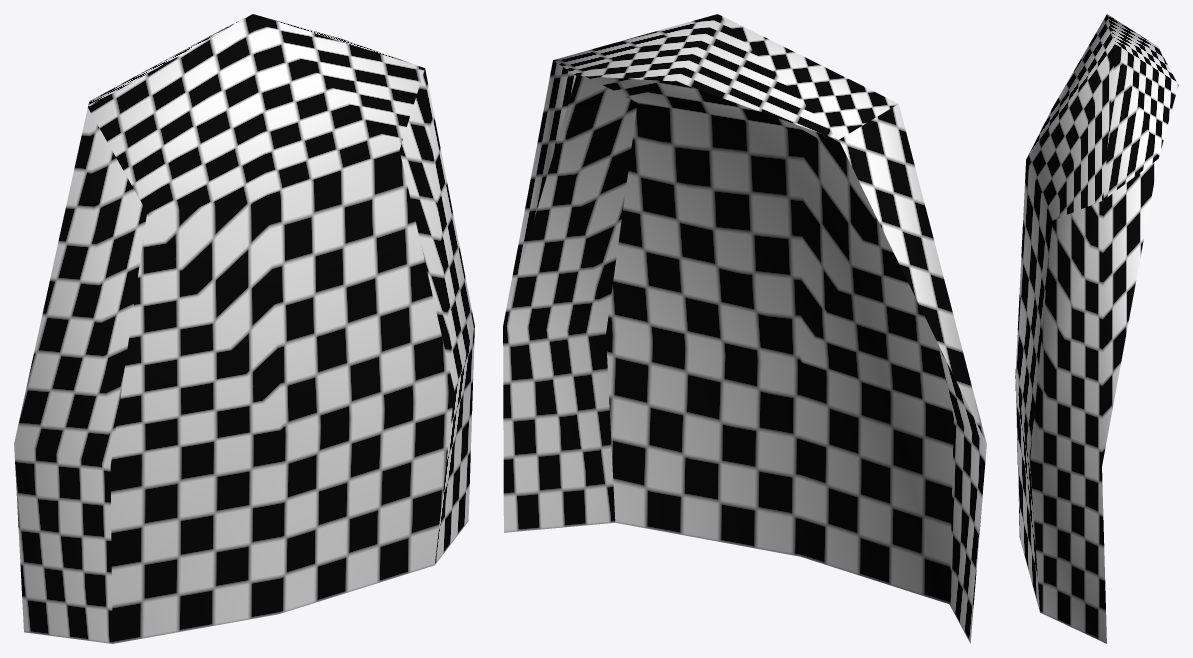
Rendered from nast3.dae.
The picture shows the model from 3 angles, left to right: view 1: azimuth 30°, elevation 25°; view 2: azimuth 150°, elevation 25°; view 3: azimuth 270°, elevation 25°; orthographic projection. The views are drawn at different scales.
Visible parts, largest first — view 1: rockgreen00; view 2: rockgreen00; view 3: rockgreen00.
Part boxes in pixels (bbox=[...]): rockgreen00: bbox=[14, 14, 474, 643]; rockgreen00: bbox=[503, 14, 986, 643]; rockgreen00: bbox=[1015, 14, 1178, 643].
Size of the model in its own units: 2.57 by 0.8611 by 2.94.
1 material, 1 textured.
